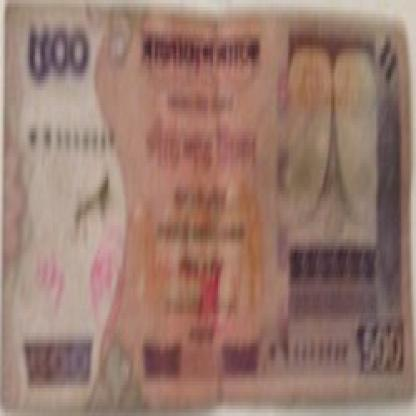500 taka: (22, 24, 100, 80), (363, 329, 406, 371)
currency: (1, 3, 413, 406)
